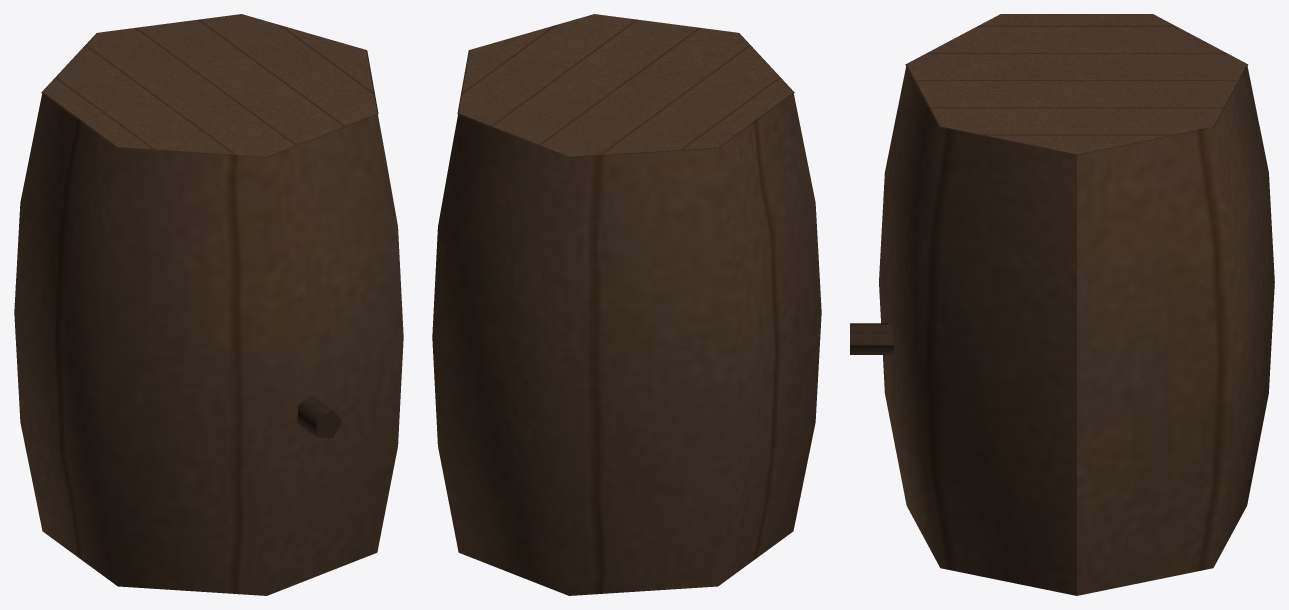
Rendered from keg_lod2.glb.
The picture shows the model from 3 angles, left to right: view 1: azimuth 30°, elevation 25°; view 2: azimuth 150°, elevation 25°; view 3: azimuth 270°, elevation 25°; orthographic projection.
Visible parts, largest first — view 1: keg; view 2: keg; view 3: keg.
Boxes of the visible parts, left/top/right/bottom form: keg: left=14, top=14, right=403, bottom=595; keg: left=432, top=14, right=821, bottom=595; keg: left=850, top=14, right=1274, bottom=595.
Size of the model in its own units: 0.5703 by 0.72 by 0.6275.
Materials: 1 (1 with a texture image).
